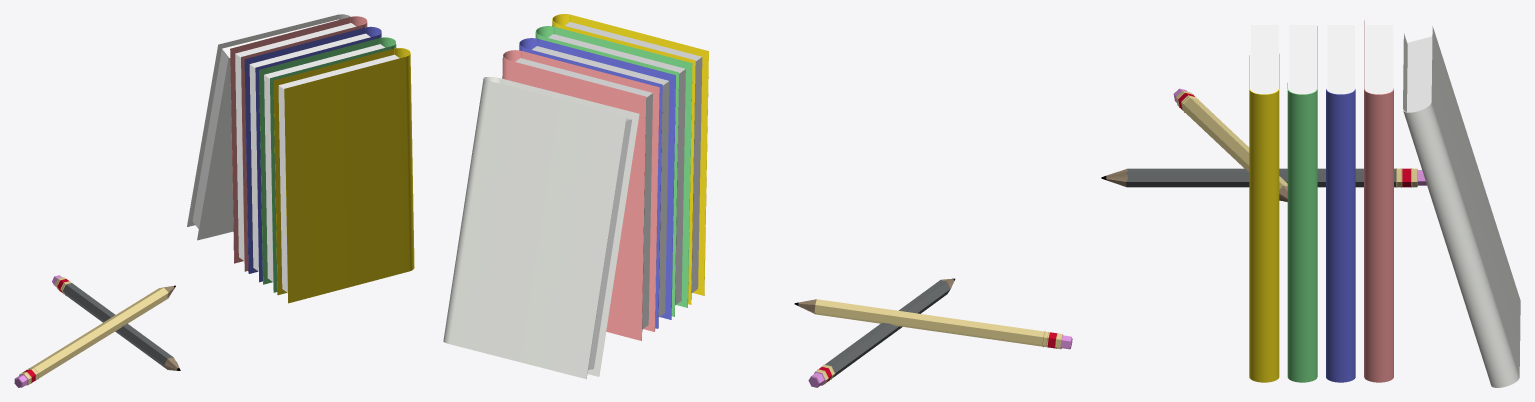
File: books.glb
The picture shows the model from 3 angles, left to right: view 1: azimuth 30°, elevation 25°; view 2: azimuth 150°, elevation 25°; view 3: azimuth 270°, elevation 25°; orthographic projection. The views are drawn at different scales.
Parts seen in each view (by area): view 1: polymsh15.007, polymsh15.003, polymsh15.006, polymsh15.004, polymsh15.005, Circle.001, cube11.007, cube11.006, cube11.004, Circle, cube11.005, cube11.003; view 2: polymsh15.003, polymsh15.006, polymsh15.004, polymsh15.005, polymsh15.007, Circle.001, cube11.005, cube11.007, cube11.004, cube11.006, Circle, cube11.003; view 3: polymsh15.003, polymsh15.007, polymsh15.004, polymsh15.006, polymsh15.005, Circle, Circle.001, cube11.006, cube11.007, cube11.005, cube11.004, cube11.003.
Part boxes in pixels (x1,y1,x2,y2): polymsh15.007: [273, 48, 414, 303]; polymsh15.003: [187, 14, 350, 240]; polymsh15.006: [230, 16, 367, 271]; polymsh15.004: [259, 37, 396, 292]; polymsh15.005: [244, 26, 381, 282]; Circle.001: [14, 285, 175, 387]; cube11.007: [278, 54, 399, 292]; cube11.006: [235, 23, 355, 260]; cube11.004: [264, 44, 384, 281]; Circle: [52, 275, 180, 370]; cube11.005: [249, 33, 370, 271]; cube11.003: [192, 19, 338, 228]; polymsh15.003: [443, 77, 639, 379]; polymsh15.006: [502, 50, 659, 340]; polymsh15.004: [535, 26, 692, 316]; polymsh15.005: [519, 38, 675, 328]; polymsh15.007: [552, 14, 708, 304]; Circle.001: [794, 299, 1072, 349]; cube11.005: [532, 46, 669, 317]; cube11.007: [565, 22, 702, 292]; cube11.004: [548, 34, 685, 305]; cube11.006: [515, 58, 652, 329]; Circle: [808, 278, 955, 387]; cube11.003: [588, 118, 631, 369]; polymsh15.003: [1403, 26, 1520, 387]; polymsh15.007: [1249, 54, 1279, 382]; polymsh15.004: [1287, 26, 1317, 382]; polymsh15.006: [1364, 20, 1393, 382]; polymsh15.005: [1326, 89, 1355, 382]; Circle: [1101, 168, 1426, 187]; Circle.001: [1173, 88, 1287, 202]; cube11.006: [1365, 25, 1393, 94]; cube11.007: [1251, 25, 1278, 94]; cube11.005: [1327, 25, 1354, 94]; cube11.004: [1289, 25, 1316, 94]; cube11.003: [1407, 36, 1432, 112].
Size of the model in its own units: 34.23 by 16.99 by 21.93.
